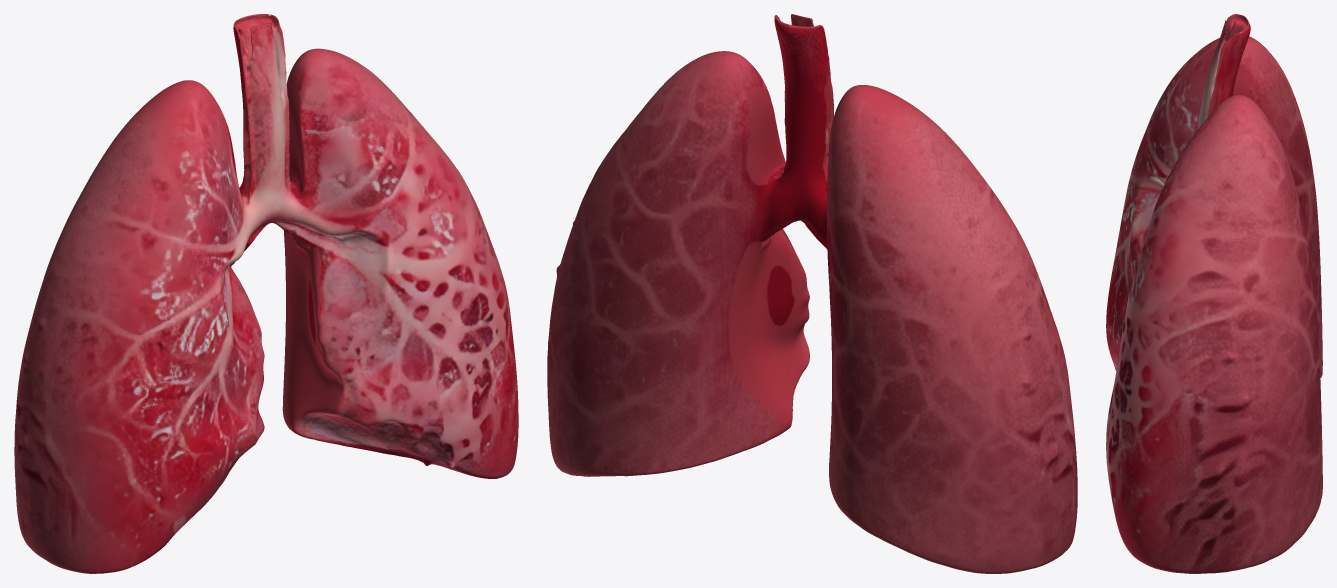
File: pulmonary-edema.glb
The picture shows the model from 3 angles, left to right: view 1: azimuth 30°, elevation 25°; view 2: azimuth 150°, elevation 25°; view 3: azimuth 270°, elevation 25°; orthographic projection. The views are drawn at different scales.
Parts seen in each view (by area): view 1: model; view 2: model; view 3: model.
Part boxes in pixels (bbox=[...]): model: bbox=[14, 14, 518, 573]; model: bbox=[547, 14, 1077, 573]; model: bbox=[1106, 14, 1322, 573].
Size of the model in its own units: 1.9 by 1.78 by 0.7829.
Materials: 1 (1 with a texture image).
